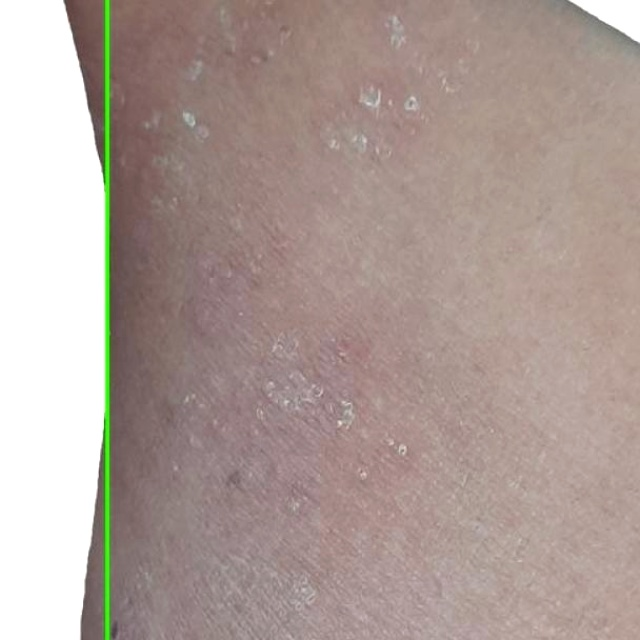Tinea Corporis: (0, 0, 107, 639)
